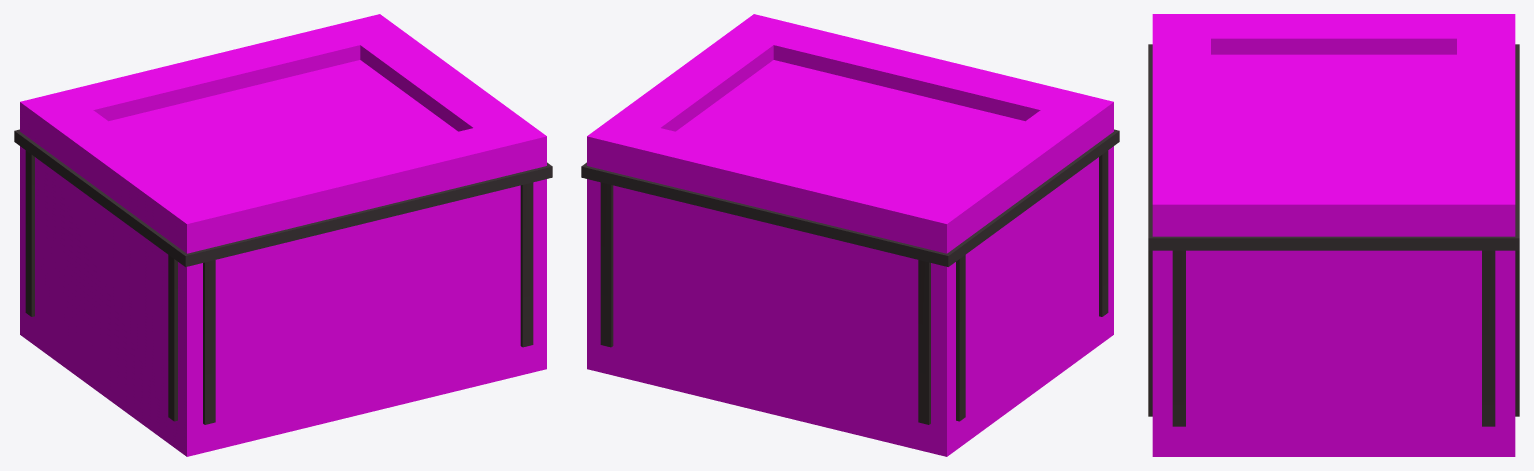
File: interior-kawabe-b.glb
The picture shows the model from 3 angles, left to right: view 1: azimuth 30°, elevation 25°; view 2: azimuth 150°, elevation 25°; view 3: azimuth 270°, elevation 25°; orthographic projection. The views are drawn at different scales.
Visible parts, largest first — view 1: Col_wall_front, Col_ceiling, Col_wall_left, Interior kawabe-b Plaster, Col_wall_back, Col_wall_right; view 2: Col_wall_back, Col_ceiling, Col_wall_left, Interior kawabe-b Plaster, Col_wall_front, Col_wall_right; view 3: Col_wall_right, Col_ceiling, Col_wall_back, Col_wall_front, Interior kawabe-b Plaster, Col_wall_left.
Boxes of the visible parts, left/top/right/bottom form: Col_wall_front: left=160, top=117, right=546, bottom=456; Col_ceiling: left=65, top=60, right=546, bottom=297; Col_wall_left: left=20, top=102, right=231, bottom=456; Interior kawabe-b Plaster: left=14, top=129, right=552, bottom=424; Col_wall_back: left=20, top=14, right=406, bottom=345; Col_wall_right: left=334, top=14, right=546, bottom=380; Col_wall_back: left=587, top=117, right=973, bottom=456; Col_ceiling: left=587, top=60, right=1113, bottom=297; Col_wall_left: left=900, top=102, right=1113, bottom=456; Interior kawabe-b Plaster: left=581, top=129, right=1119, bottom=424; Col_wall_front: left=727, top=14, right=1113, bottom=343; Col_wall_right: left=587, top=14, right=797, bottom=288; Col_wall_right: left=1152, top=180, right=1515, bottom=456; Col_ceiling: left=1152, top=54, right=1515, bottom=284; Col_wall_back: left=1457, top=14, right=1515, bottom=456; Col_wall_front: left=1152, top=14, right=1210, bottom=456; Interior kawabe-b Plaster: left=1148, top=44, right=1519, bottom=426; Col_wall_left: left=1153, top=14, right=1514, bottom=54.
Size of the model in its own units: 10.4 by 6.3 by 8.4.
